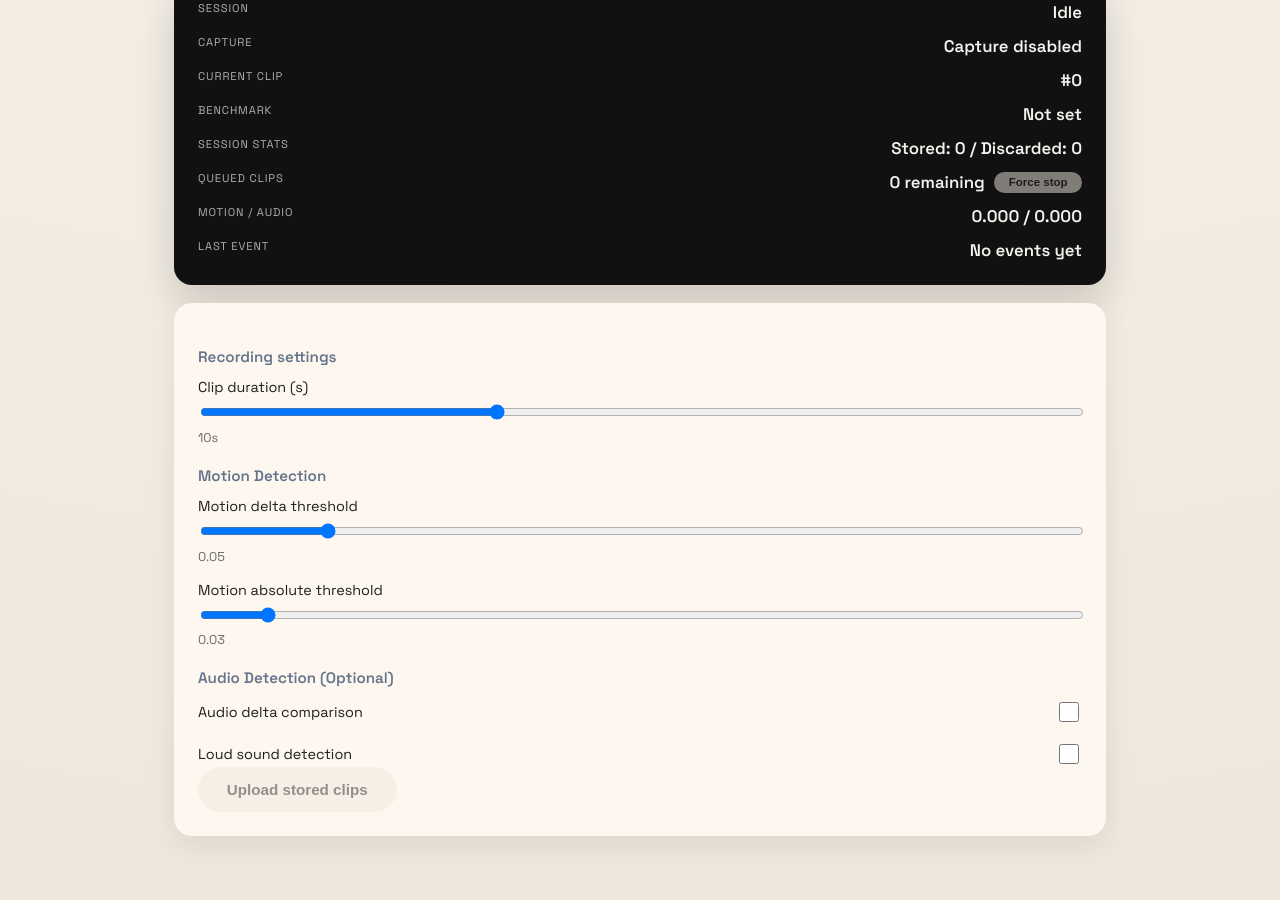
App › shows audio delta slider when enabled
(page scrolled)
Click the checkbox named "enable audio delta": coordinates (1069, 712) [1059, 702, 1079, 722]
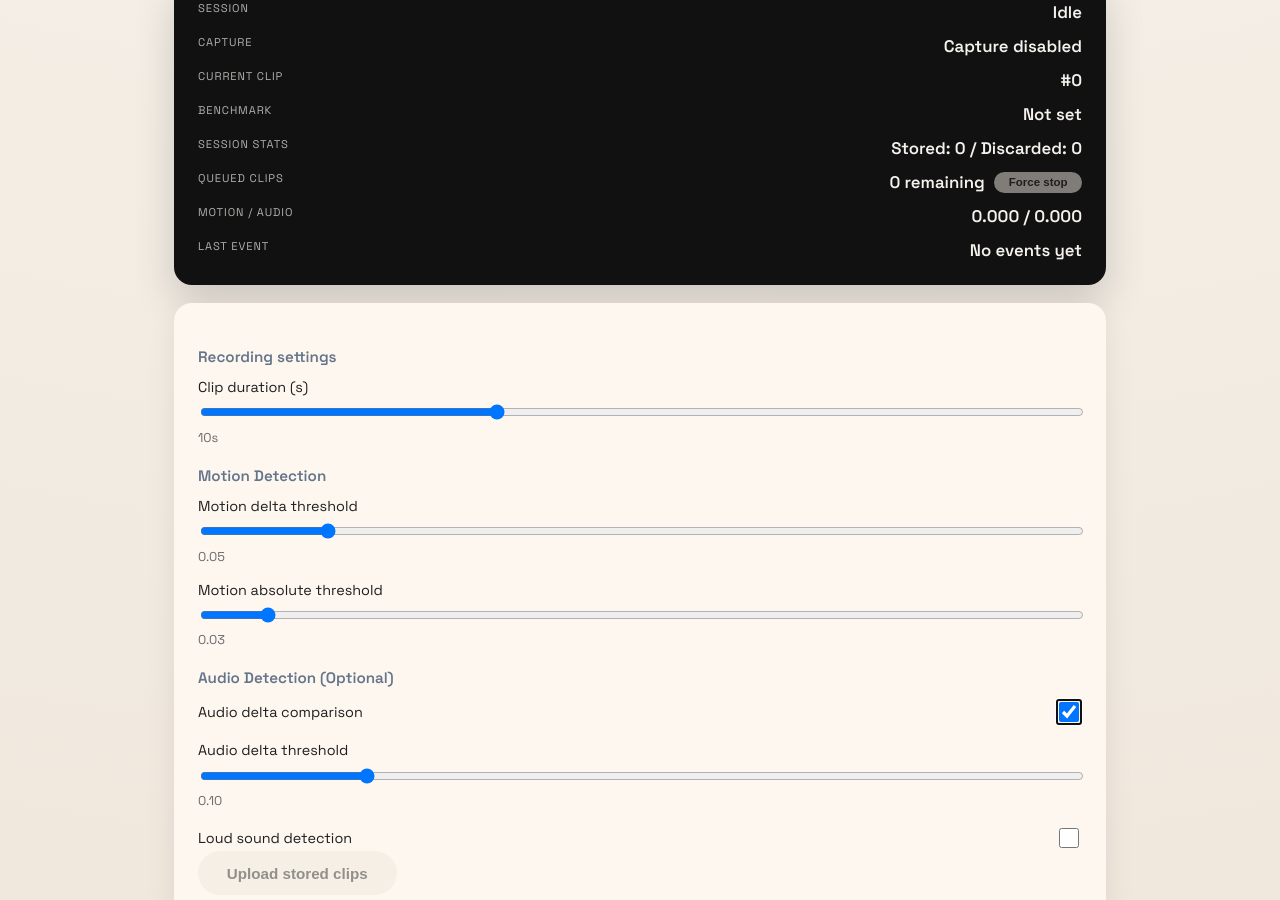
Now the slider labelled "Audio delta threshold 0.10" is shown, box [200, 768, 1084, 784]
